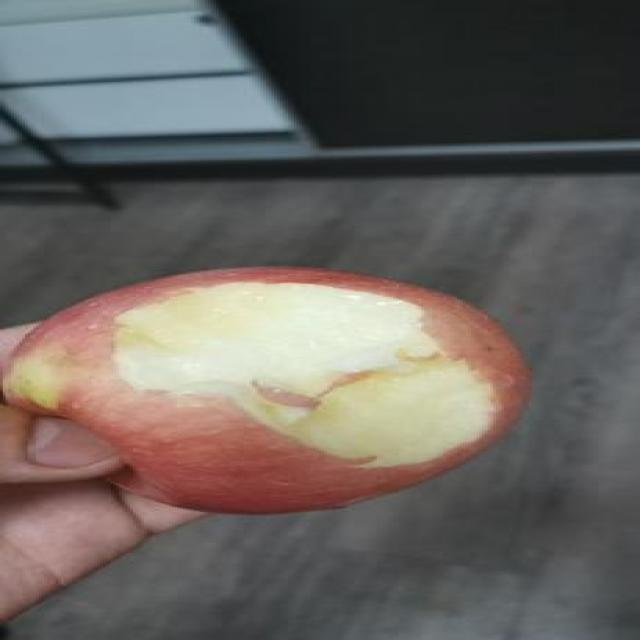Apple: (2, 257, 535, 527)
